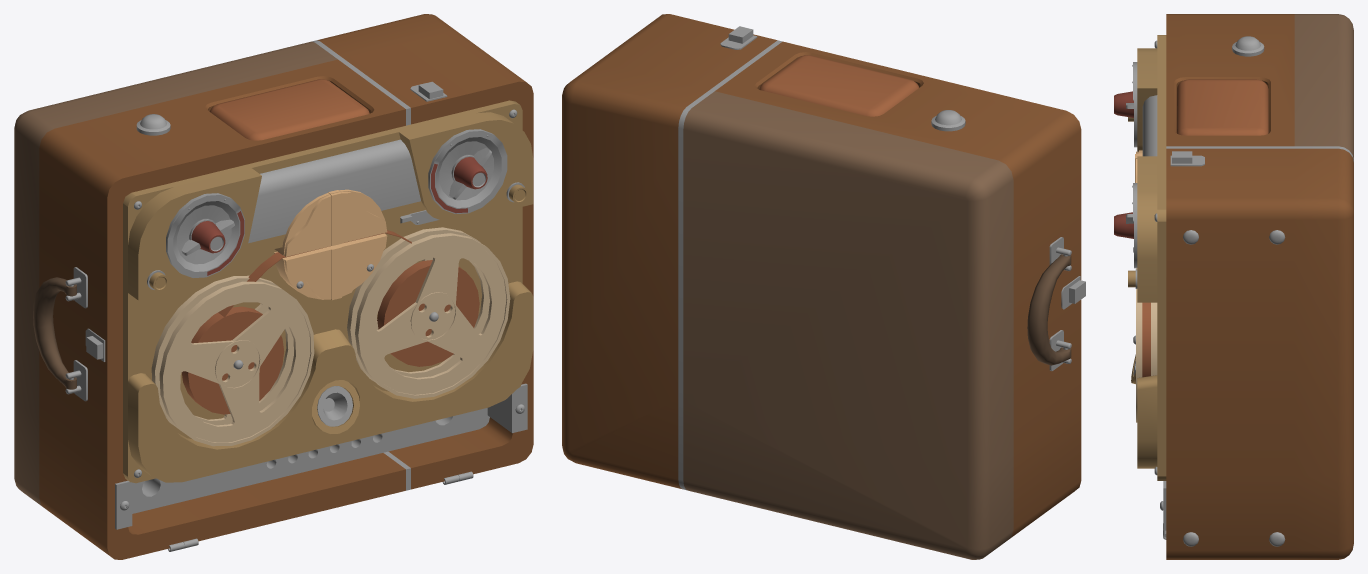
The model's file is radio.glb.
3 renders of one model, left to right at view 1: azimuth 30°, elevation 25°; view 2: azimuth 150°, elevation 25°; view 3: azimuth 270°, elevation 25°, orthographic. The views are drawn at different scales.
Visible parts, largest first — view 1: Cube.004, Cube.001, Cylinder, Cylinder.006, Cube.002, Cylinder.010, Cylinder.007, Cube.005, Cylinder.004, Cylinder.020, Cylinder.012, Cube.003 (+3 smaller); view 2: Cube.004, Cube.005, Cylinder.020; view 3: Cube.004, Cube.001, Cube.005, Cylinder, Cylinder.004, Cube.002, Cylinder.010, Cylinder.007, Cylinder.014, Cube.008.
Boxes of the visible parts, x1,y1,x2,y2 form: Cube.004: (14, 14, 533, 559); Cube.001: (123, 100, 533, 483); Cylinder: (151, 227, 510, 446); Cylinder.006: (274, 189, 387, 300); Cube.002: (248, 139, 420, 243); Cylinder.010: (166, 129, 507, 277); Cylinder.007: (181, 260, 479, 414); Cube.005: (210, 79, 369, 140); Cylinder.004: (181, 147, 491, 255); Cylinder.020: (33, 277, 76, 389); Cylinder.012: (312, 380, 359, 433); Cube.003: (115, 383, 527, 529); Cube.004: (562, 14, 1081, 559); Cube.005: (759, 55, 919, 116); Cylinder.020: (1027, 254, 1071, 365); Cube.004: (1166, 14, 1353, 559); Cube.001: (1137, 35, 1166, 480); Cube.005: (1176, 79, 1268, 135); Cylinder: (1136, 268, 1157, 422); Cylinder.004: (1114, 91, 1133, 238); Cube.002: (1142, 95, 1157, 156); Cylinder.010: (1133, 62, 1137, 268); Cylinder.007: (1142, 302, 1150, 377); Cylinder.014: (1232, 36, 1264, 56); Cube.008: (1170, 151, 1204, 166).
Bounding box in the file's own units: 2.54 × 2.15 × 1.25.
